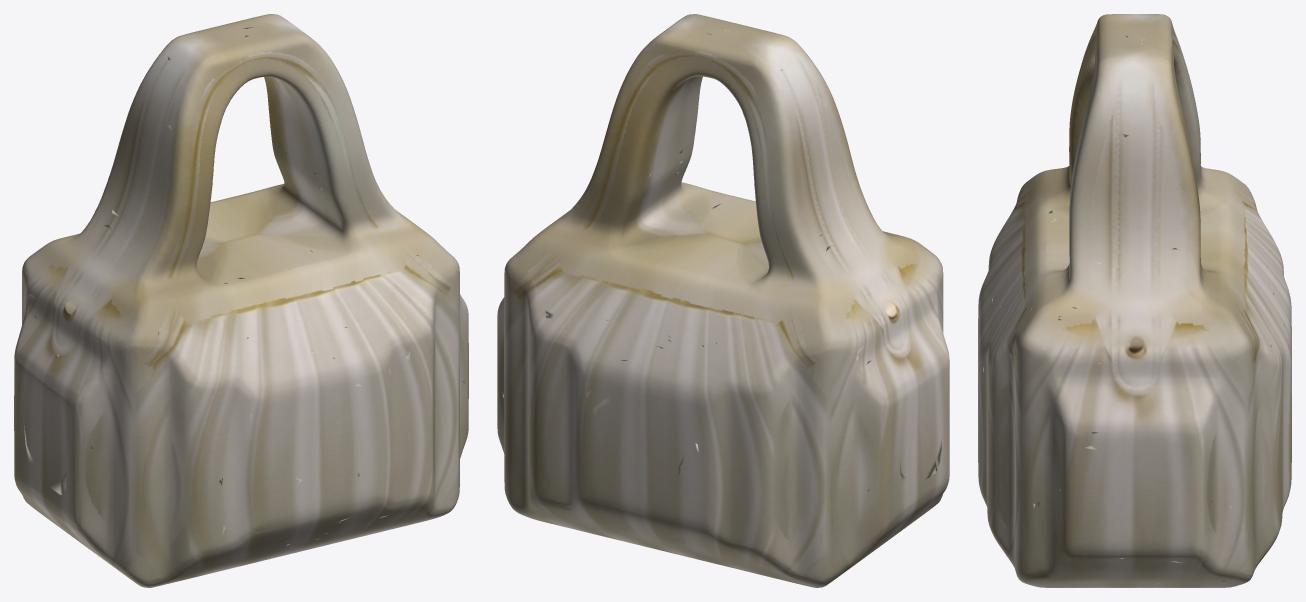
Rendered from art-105.glb.
3 renders of one model, left to right at view 1: azimuth 30°, elevation 25°; view 2: azimuth 150°, elevation 25°; view 3: azimuth 270°, elevation 25°, orthographic.
Visible parts, largest first — view 1: geometry_0; view 2: geometry_0; view 3: geometry_0.
Boxes of the visible parts, x1,y1,x2,y2 form: geometry_0: (14,14,468,587); geometry_0: (497,14,949,587); geometry_0: (978,14,1291,587).
Bounding box in the file's own units: 0.8443 × 1 × 0.5865.
1 material, 1 textured.
